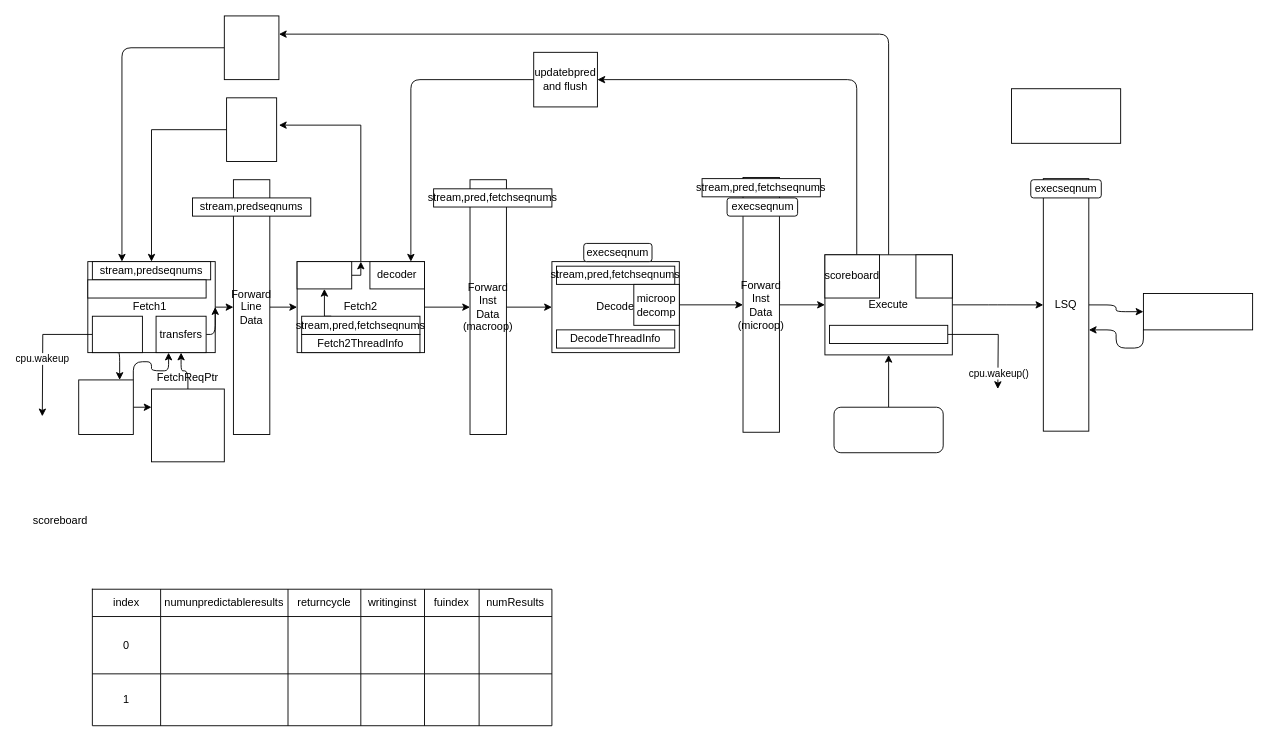
Some shapes in this 1269 by 742 pixel diagram are drawn without their labels. Each missing label, with the centre of its shape:
"bpred" belongs at point 324,275.
"Dcache" belongs at point 1198,311.
"early o3 memory issue possible to lsq" belongs at point 1066,115.
"ExecuteThreadInfo" belongs at point 888,334.
"Fetch1ThreadInfo" belongs at point 146,288.
"FU" belongs at point 933,276.
"Icache" belongs at point 187,425.
"ITLB" belongs at point 105,407.
"newpred seqnums" belongs at point 251,129.
"newstream seqnums" belongs at point 251,47.
"Reg file" belongs at point 888,429.
"requests" belongs at point 116,334.
